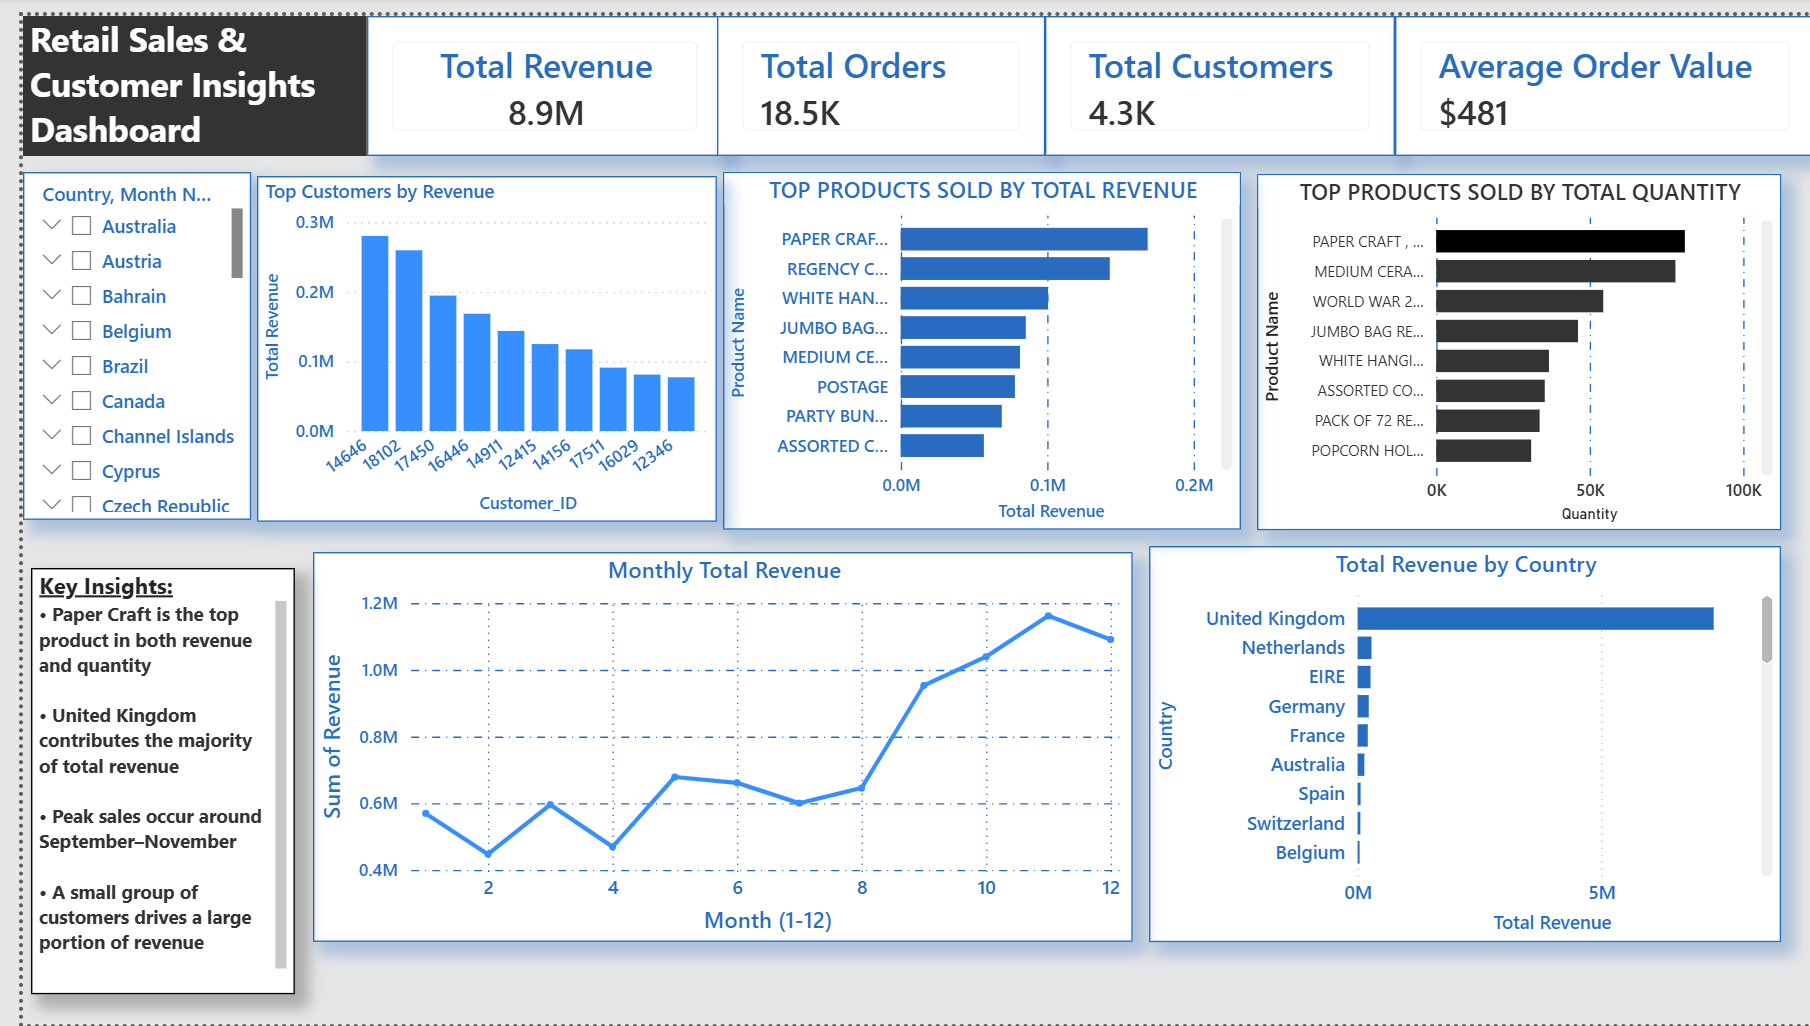

This screenshot's page, from the dashboard's own definition file:
{"tool":"powerbi","page":{"name":"Page 1","canvas":[1280,720],"ordinal":0},"visuals":[{"type":"cardVisual","fields":{"Data":["Sum(retail_clean.Revenue)"]},"box":[245.7,0,254.3,100],"z":0},{"type":"cardVisual","fields":{"Data":["Count(retail_clean.Invoice)"]},"box":[495.7,0,234.3,100],"z":1000},{"type":"cardVisual","fields":{"Data":["Count(retail_clean.Customer_ID)"]},"box":[730,0,250,100],"z":2000},{"type":"cardVisual","fields":{"Data":["retail_clean.Avg Order Value"]},"box":[980,0,300,100],"z":3000},{"type":"clusteredBarChart","title":"TOP PRODUCTS SOLD BY TOTAL QUANTITY","fields":{"Category":["retail_clean.Description"],"Y":["Sum(retail_clean.Quantity)"]},"box":[881.4,112.9,374.3,254.3],"z":4000},{"type":"barChart","fields":{"Category":["retail_clean.Country"],"Y":["Sum(retail_clean.Revenue)"]},"box":[804.3,378.6,451.4,282.9],"z":5000},{"type":"lineChart","title":"Monthly Total Revenue","fields":{"Y":["Sum(retail_clean.Revenue)"],"Category":["retail_clean.Month"]},"box":[207.1,382.9,585.7,278.6],"z":6000},{"type":"slicer","fields":{"Values":["retail_clean.Country","retail_clean.Month Name"]},"box":[0,111.4,162.9,248.6],"z":7000},{"type":"barChart","title":"TOP PRODUCTS SOLD BY TOTAL REVENUE ","fields":{"Category":["retail_clean.Description"],"Y":["Sum(retail_clean.Revenue)"]},"box":[500,111.4,370,255.7],"z":8000},{"type":"clusteredColumnChart","title":"Top Customers by Revenue","fields":{"Category":["retail_clean.Customer_ID"],"Y":["Sum(retail_clean.Revenue)"]},"box":[167.1,114.3,328.6,247.1],"z":9000},{"type":"actionButton","box":[0,0,100,40],"z":10000},{"type":"textbox","title":"Retail Sales & Customer Insights Dashboard","box":[0,0,245.7,100],"z":11000},{"type":"textbox","title":"Key Insights: ","box":[5.7,394.3,188.6,304.3],"z":12000}]}

Visuals, with their boxes in screenshot pixels (x1, y1, x2, y2), scaled from the page's 1280x720 canvas onto the 1810x1026 screenshot:
cardVisual - Sum(retail_clean.Revenue): 347:0:707:142
cardVisual - Count(retail_clean.Invoice): 701:0:1032:142
cardVisual - Count(retail_clean.Customer_ID): 1032:0:1386:142
cardVisual - retail_clean.Avg Order Value: 1386:0:1809:142
"TOP PRODUCTS SOLD BY TOTAL QUANTITY" clusteredBarChart: 1246:161:1776:523
barChart - retail_clean.Country x Sum(retail_clean.Revenue): 1137:540:1776:943
"Monthly Total Revenue" lineChart: 293:546:1121:943
slicer - retail_clean.Country x retail_clean.Month Name: 0:159:230:513
"TOP PRODUCTS SOLD BY TOTAL REVENUE " barChart: 707:159:1230:523
"Top Customers by Revenue" clusteredColumnChart: 236:163:701:515
actionButton: 0:0:141:57
"Retail Sales & Customer Insights Dashboard" textbox: 0:0:347:142
"Key Insights: " textbox: 8:562:275:996
